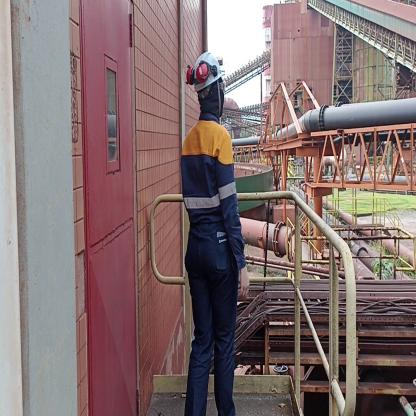Balaclava: (198, 84, 223, 118)
Capacete: (190, 45, 226, 84)
Operacional: (180, 116, 239, 236)
